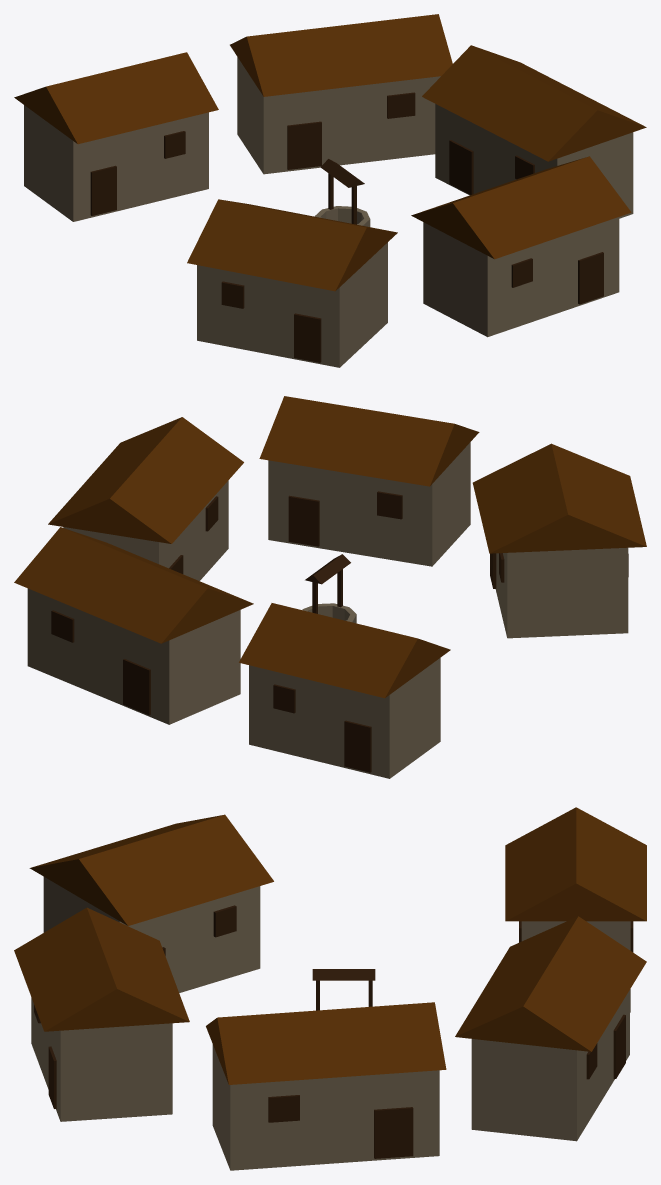
Rendered from PathExit_Village.fbx.
3 views of the same model, one above another, from view 1: azimuth 30°, elevation 25°; view 2: azimuth 150°, elevation 25°; view 3: azimuth 270°, elevation 25° (orthographic). The views are drawn at different scales.
Visible parts, largest first — view 1: Village; view 2: Village; view 3: Village.
Boxes of the visible parts, x1,y1,x2,y2 form: Village: (14,14,646,367); Village: (14,396,646,778); Village: (14,807,646,1170).
Bounding box in the file's own units: 180 × 43.99 × 184.
